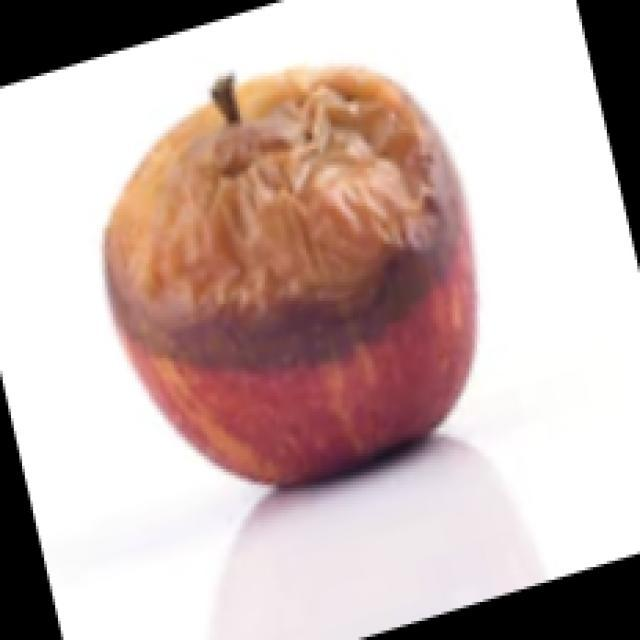Rotten: (113, 75, 482, 477)
